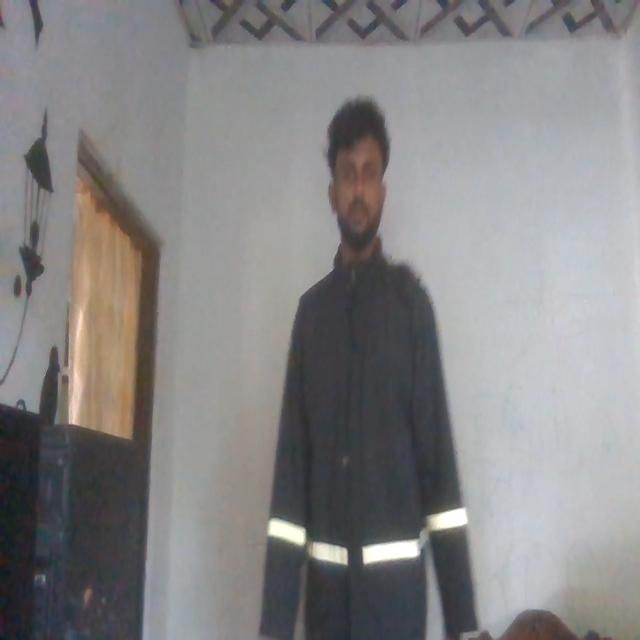Jacket_Wearer: (267, 236, 467, 640)
Person: (264, 106, 485, 640)
